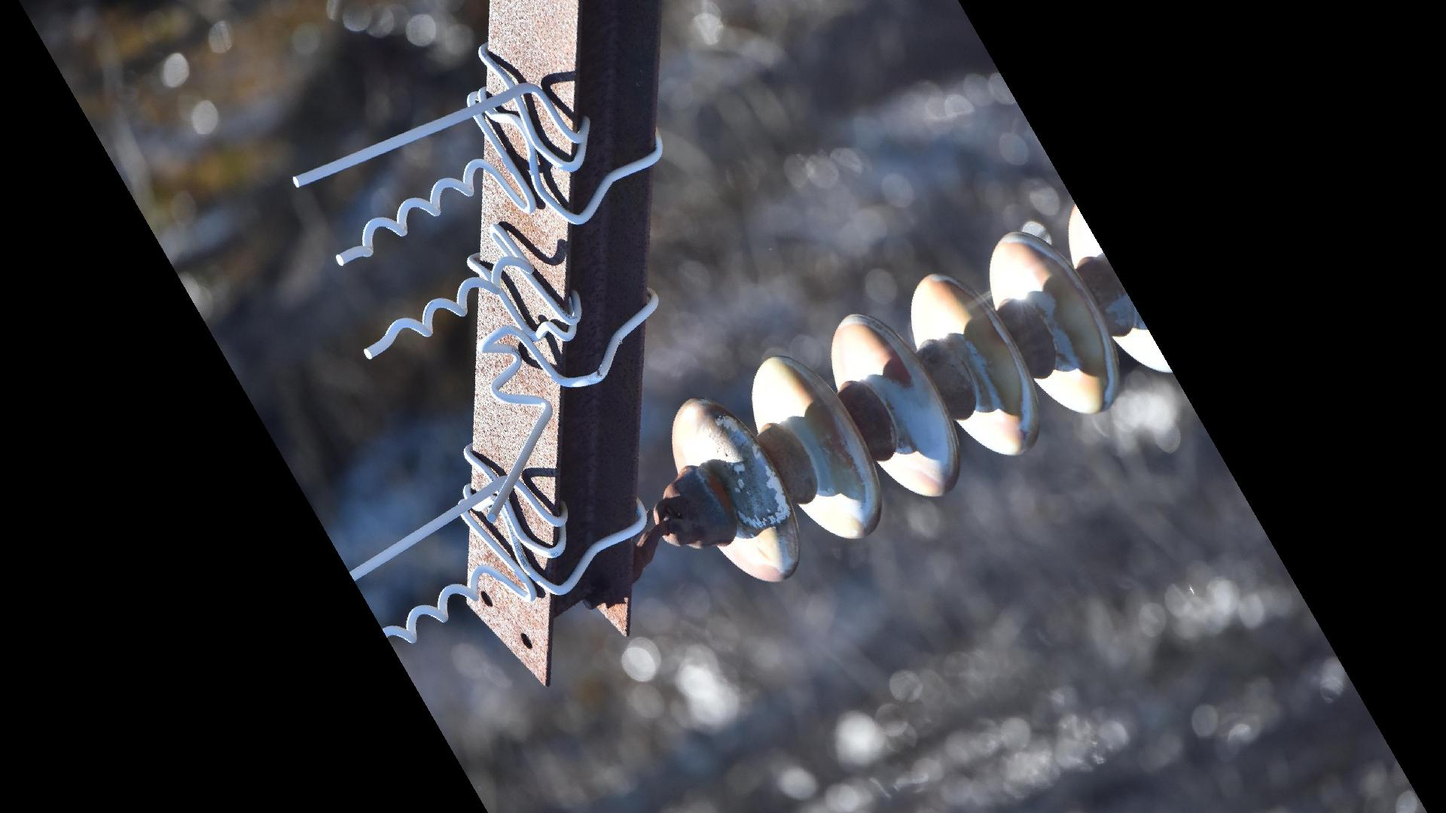insulator: (661, 197, 1178, 592)
insulator_flashover: (696, 416, 793, 531)
